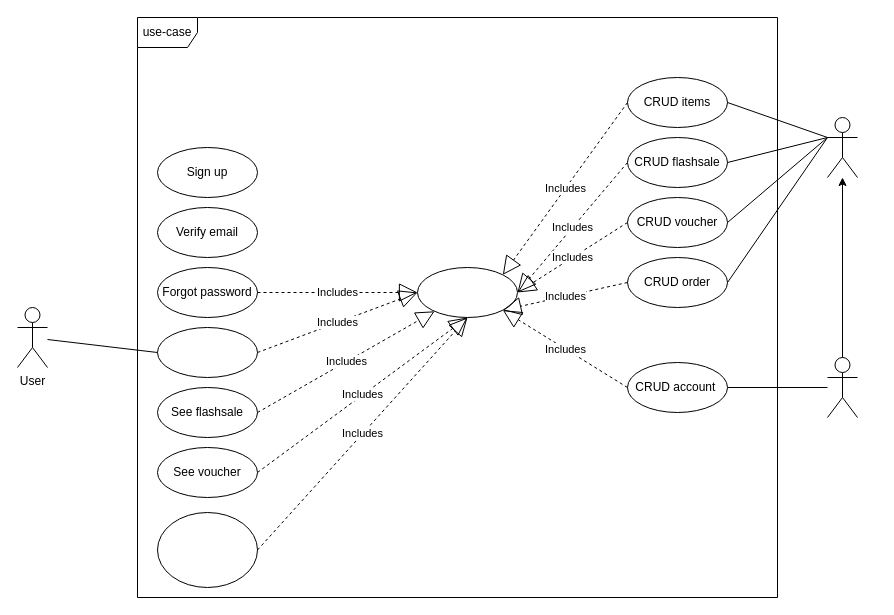
The diagram is 894 pixels wide and 615 high, and some of its shapes have lost their labels. Here are the shapes that lost their labels. From the top down, the box of each, then its label:
(826, 116, 858, 178): Admin
(416, 266, 518, 318): Login
(156, 326, 258, 378): See items
(826, 356, 858, 418): Super Admin
(156, 512, 258, 588): Create and manage the own orders
